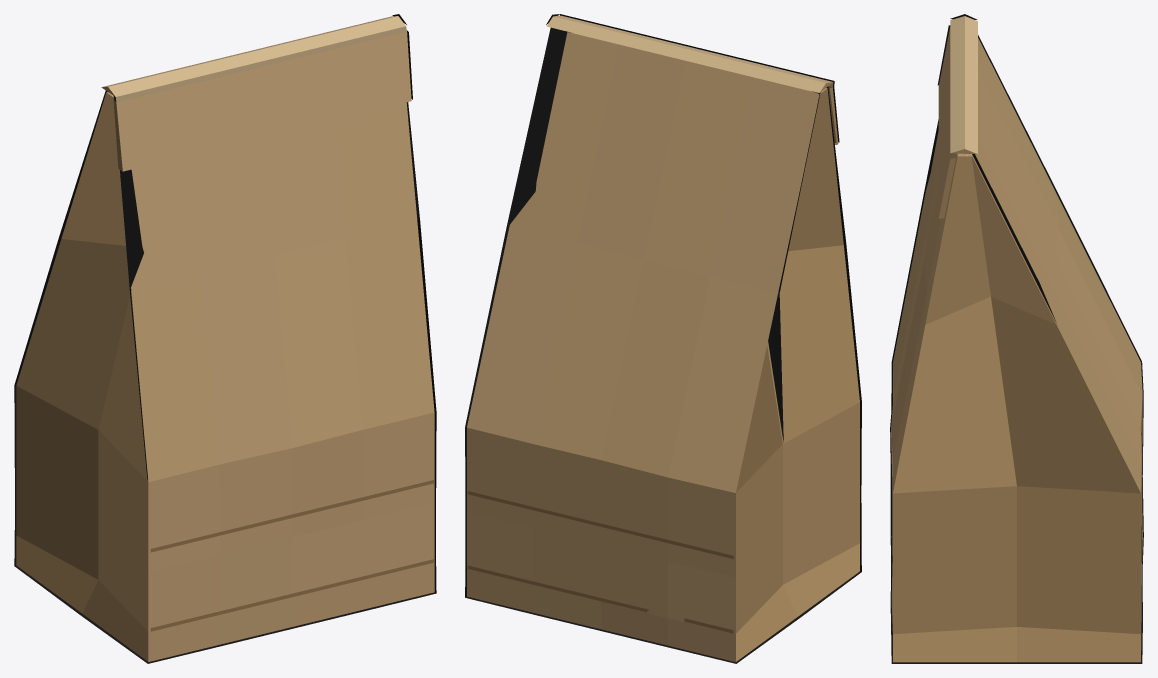
The model's file is Kese_ince.fbx.
3 renders of one model, left to right at view 1: azimuth 30°, elevation 25°; view 2: azimuth 150°, elevation 25°; view 3: azimuth 270°, elevation 25°, orthographic. The views are drawn at different scales.
Parts seen in each view (by area): view 1: Kese_ince; view 2: Kese_ince; view 3: Kese_ince.
Part boxes in pixels (x1=…): Kese_ince: x1=14, y1=14, x2=436, y2=663; Kese_ince: x1=465, y1=14, x2=861, y2=663; Kese_ince: x1=890, y1=14, x2=1143, y2=663.
Size of the model in its own units: 0.154 by 0.2759 by 0.1228.
